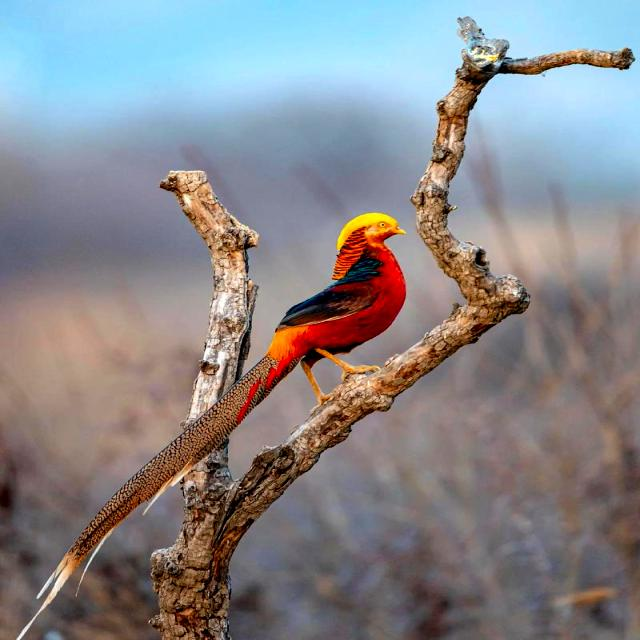Chrysolophus pictus feather: (16, 352, 298, 640)
